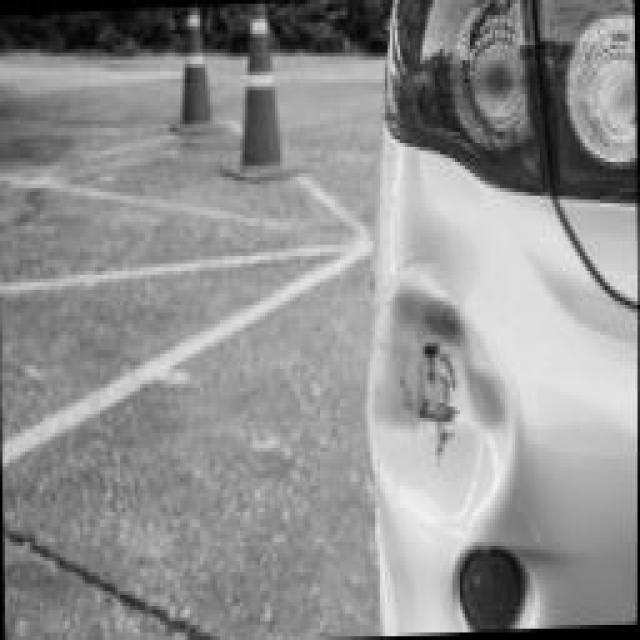Bumper: (358, 241, 536, 561)
